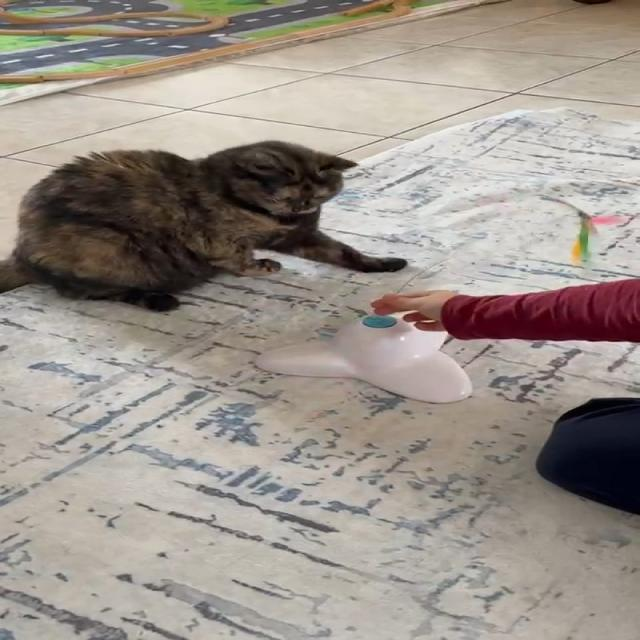authorized: (0, 139, 407, 312)
